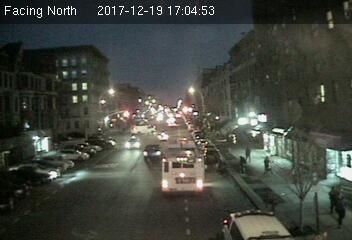bus: (161, 139, 205, 194)
car: (142, 143, 161, 159), (125, 136, 141, 149)
pedestrian: (260, 154, 276, 177), (243, 145, 252, 162)
police: (222, 208, 292, 240)
